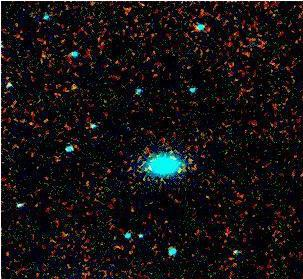star: (59, 71, 89, 101)
